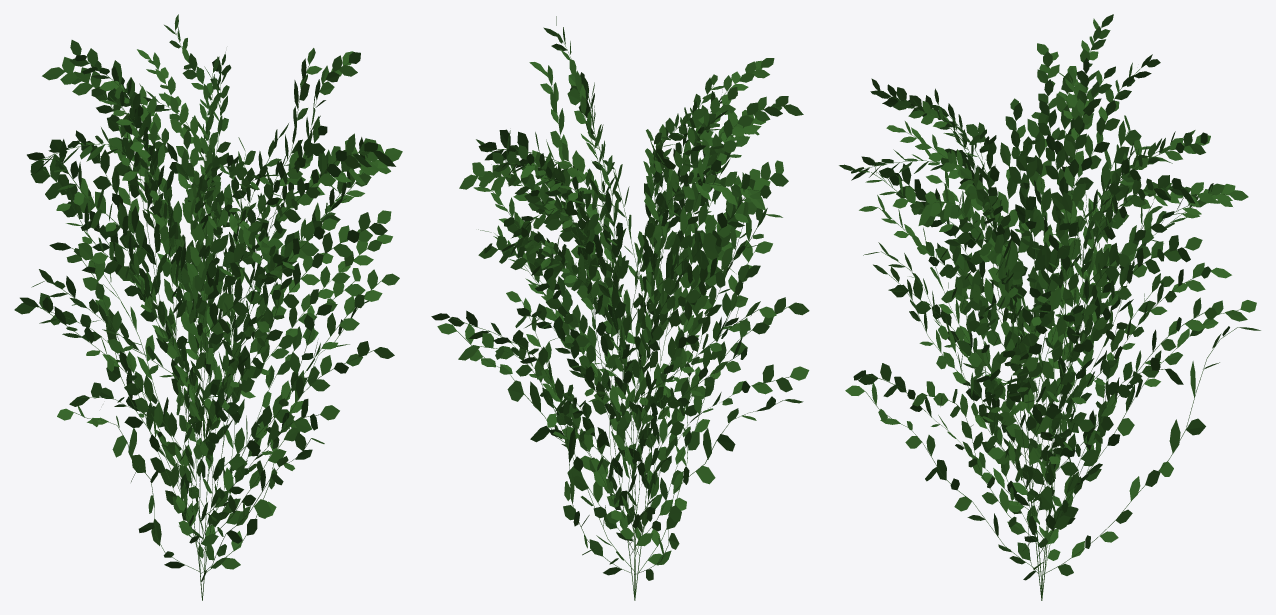
File: AngryBush.fbx
The picture shows the model from 3 angles, left to right: view 1: azimuth 30°, elevation 25°; view 2: azimuth 150°, elevation 25°; view 3: azimuth 270°, elevation 25°; orthographic projection. The views are drawn at different scales.
Visible parts, largest first — view 1: AngryBush; view 2: AngryBush; view 3: AngryBush.
Boxes of the visible parts, x1,y1,x2,y2 form: AngryBush: (14, 14, 402, 600); AngryBush: (431, 16, 809, 600); AngryBush: (839, 14, 1260, 600).
Size of the model in its own units: 276 by 421 by 297.
